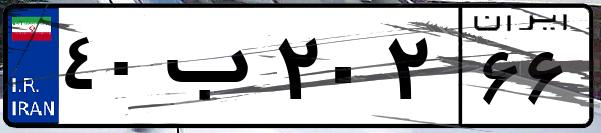0: (330, 28, 385, 110), (110, 28, 158, 98)
2: (270, 28, 330, 110), (385, 28, 445, 110)
4: (57, 26, 110, 100)
6: (475, 38, 525, 113), (525, 38, 570, 115)
ب: (158, 20, 270, 120)
